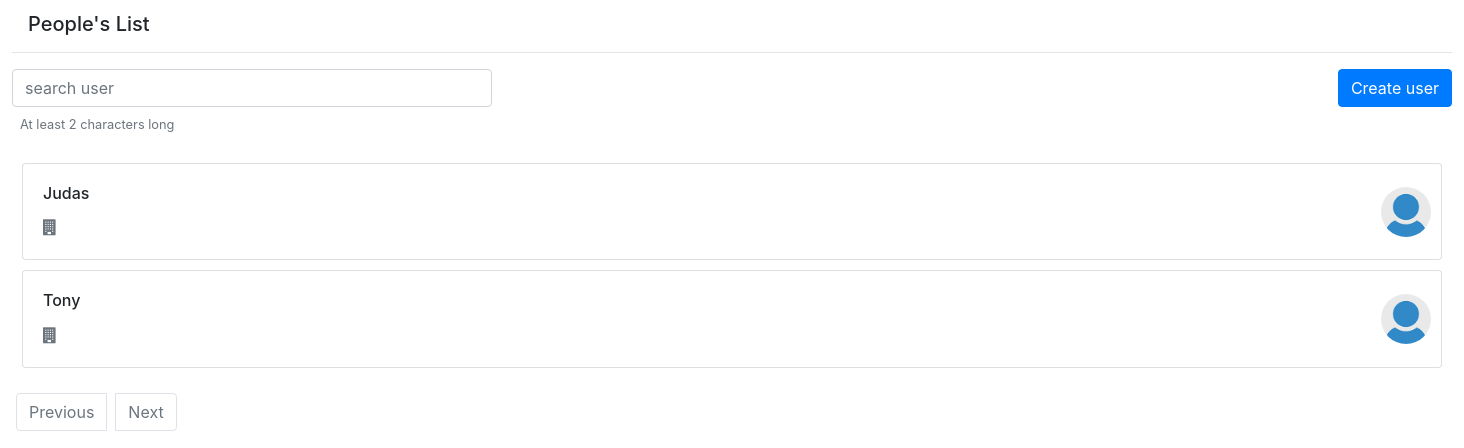
Scenario: <Persons> › Should search by name , filtering the current list
The image size is (1464, 448).
Type "Judas" into the field with placeholder "search user" at coordinates (252, 88), box [12, 69, 492, 107]
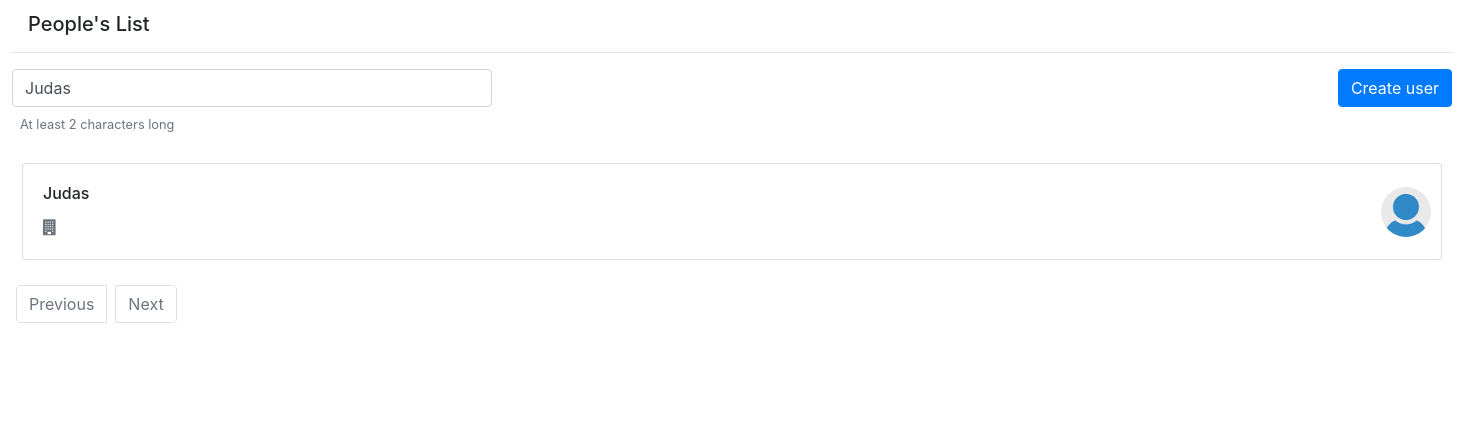
Result: the heading "Tony" is gone
